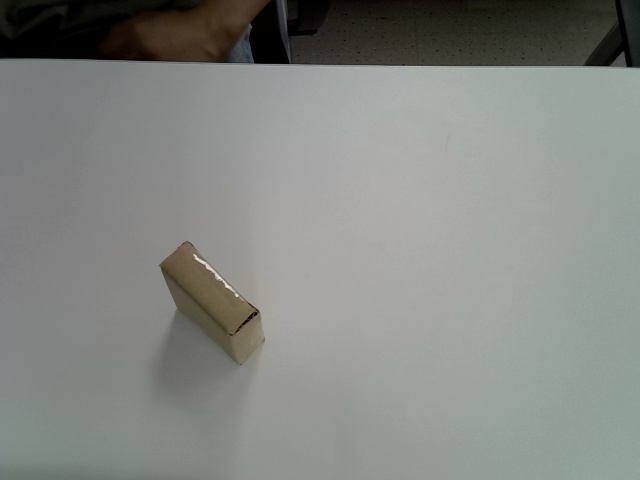normal: (159, 240, 266, 367)
